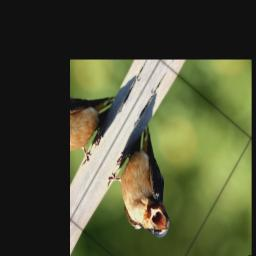Swallow: (97, 118, 202, 250)
